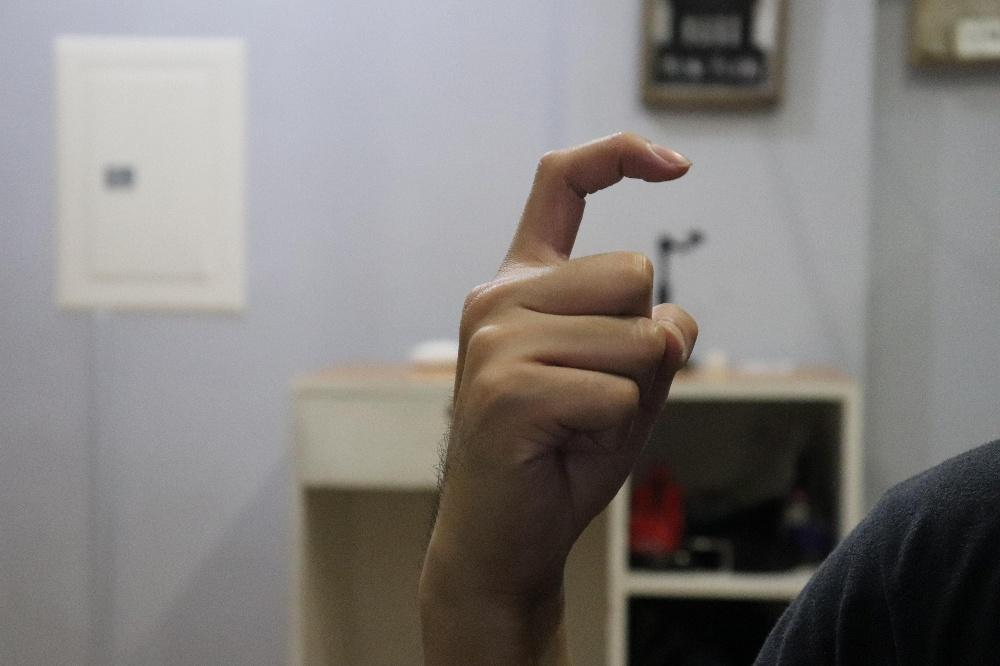x: (420, 131, 698, 598)
